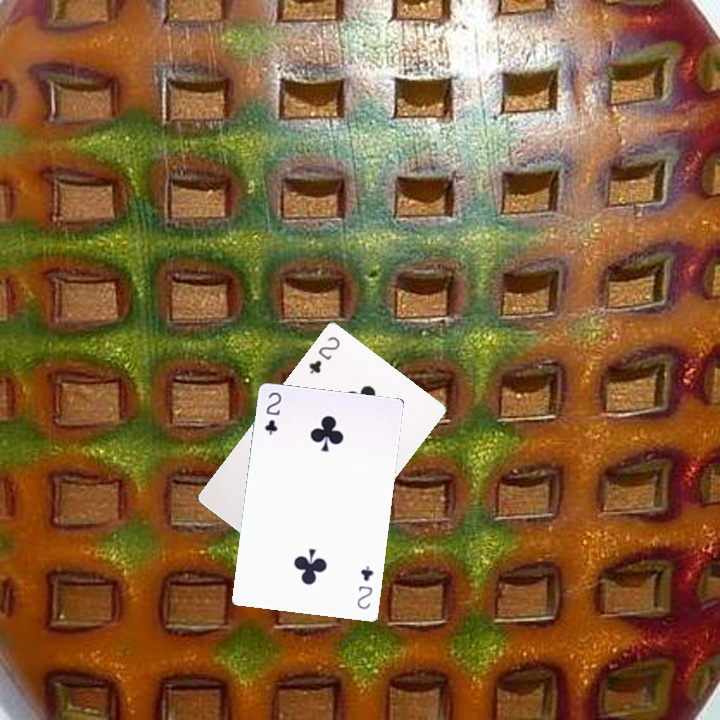2c: (305, 332, 343, 377), (260, 388, 284, 438), (353, 561, 376, 612)
